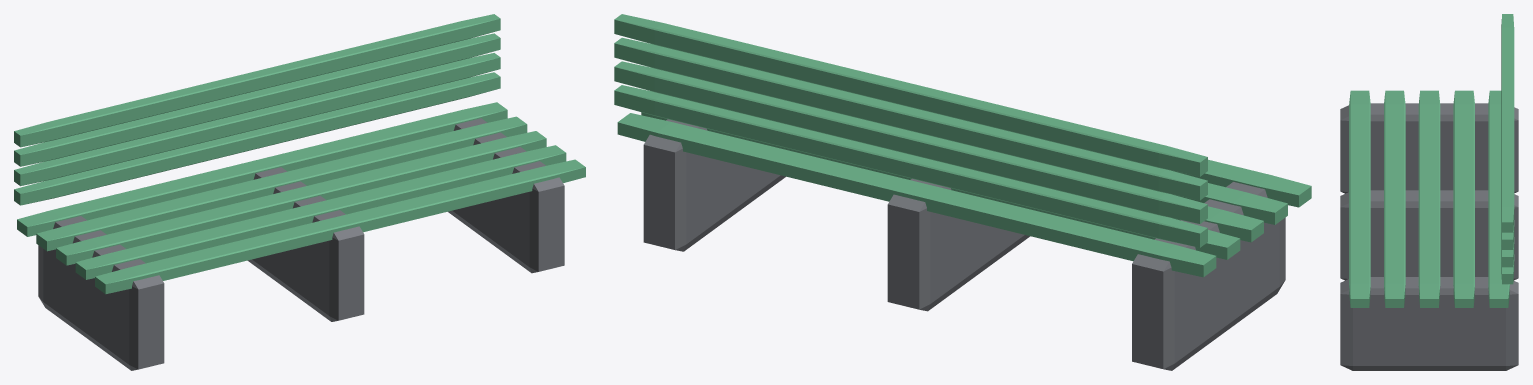
The model's file is b01_curve_segment_park_bench.glb.
3 renders of one model, left to right at view 1: azimuth 30°, elevation 25°; view 2: azimuth 150°, elevation 25°; view 3: azimuth 270°, elevation 25°, orthographic. The views are drawn at different scales.
Parts seen in each view (by area): view 1: b01_curve_segment_park_bench; view 2: b01_curve_segment_park_bench; view 3: b01_curve_segment_park_bench.
Part boxes in pixels (bbox=[...]): b01_curve_segment_park_bench: bbox=[14, 14, 585, 370]; b01_curve_segment_park_bench: bbox=[614, 14, 1311, 370]; b01_curve_segment_park_bench: bbox=[1340, 14, 1518, 370].
Size of the model in its own units: 2.83 by 1.02 by 1.02.
